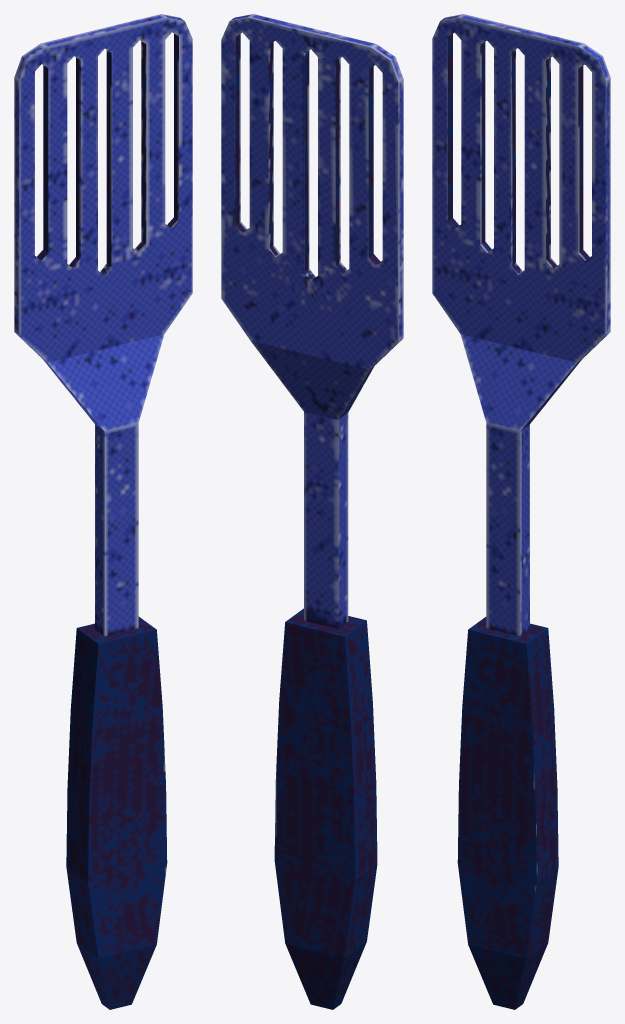
File: SM_Spatel.fbx
The picture shows the model from 3 angles, left to right: view 1: azimuth 30°, elevation 25°; view 2: azimuth 150°, elevation 25°; view 3: azimuth 330°, elevation 25°; orthographic projection.
Visible parts, largest first — view 1: Spatel; view 2: Spatel; view 3: Spatel.
Boxes of the visible parts, bbox=[...] form: Spatel: bbox=[14, 14, 192, 1009]; Spatel: bbox=[221, 14, 403, 1009]; Spatel: bbox=[432, 14, 610, 1009].
Size of the model in its own units: 7.32 by 38.87 by 1.95.
